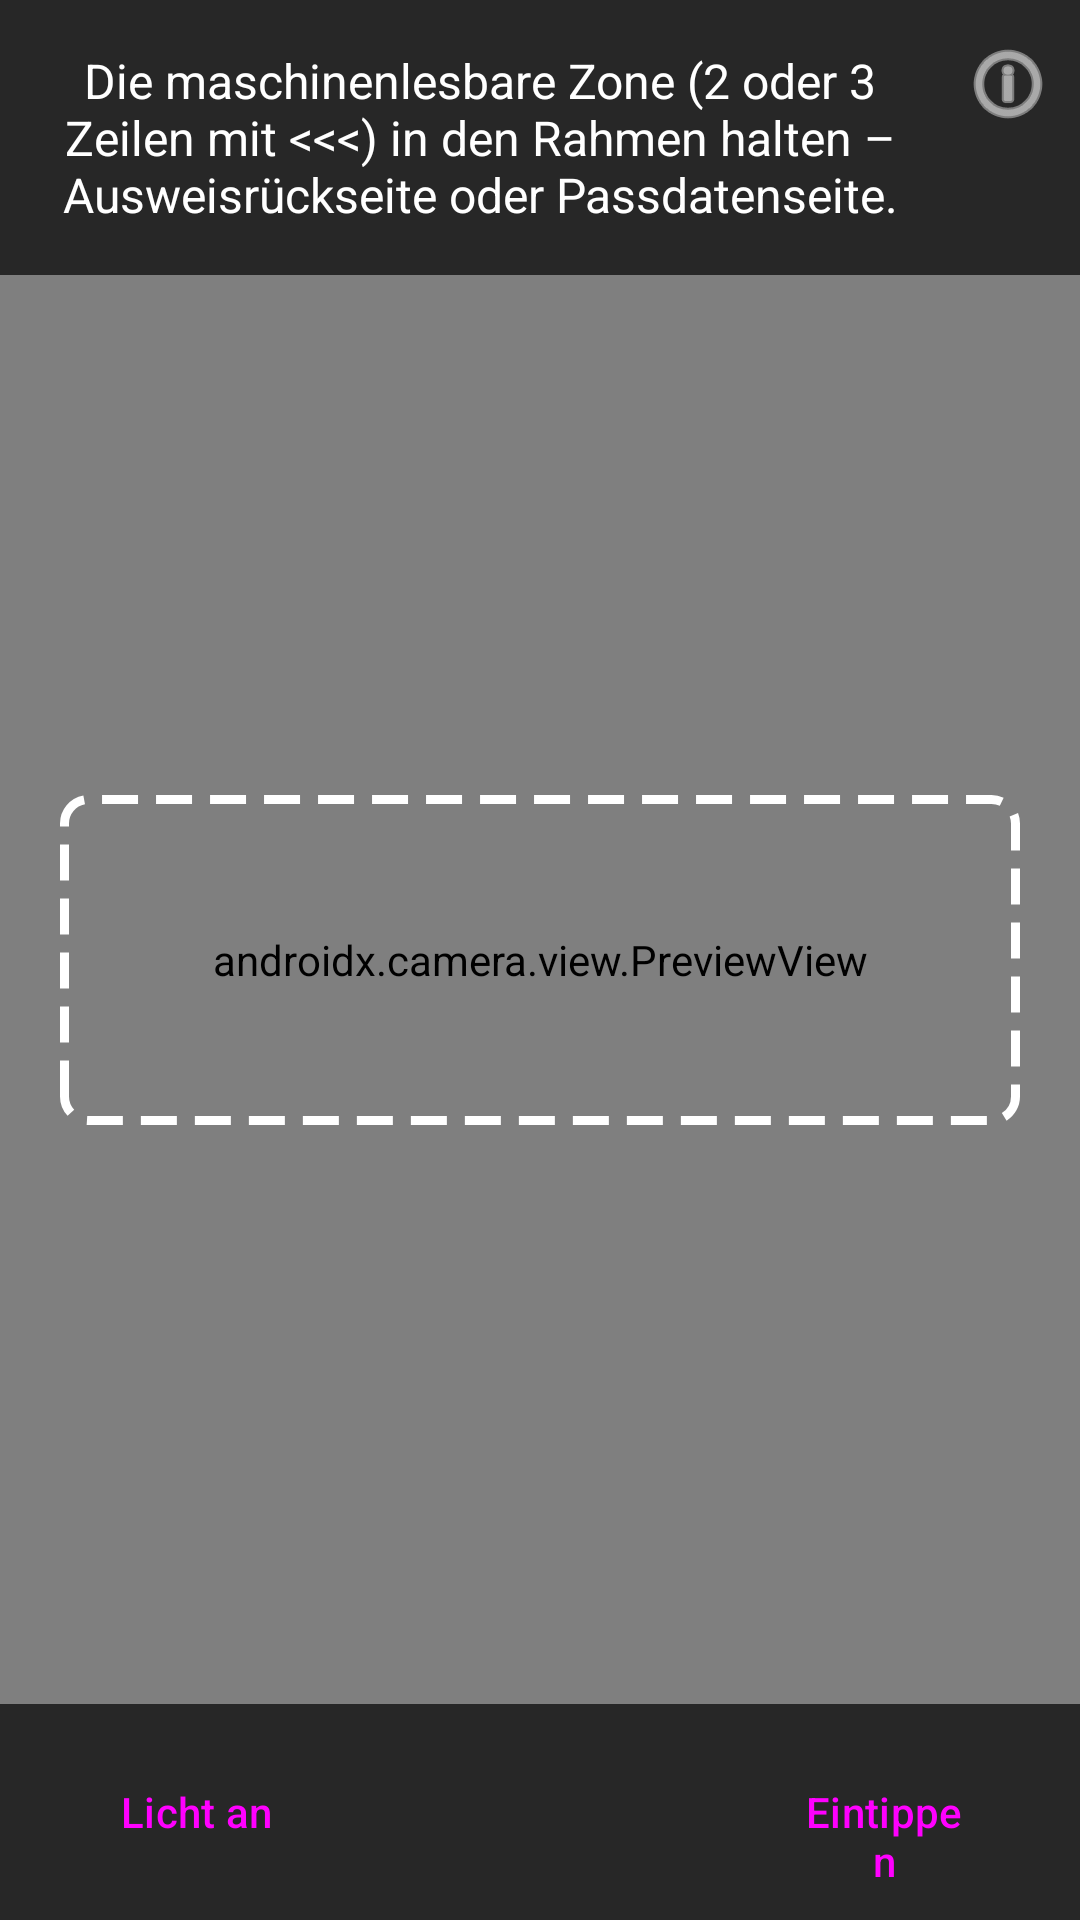

Where icons sit on this 1080px x 1920px app screen, as (x1, y1, x2, y2):
Impressum & Datenschutz: (973, 50, 1043, 119)
